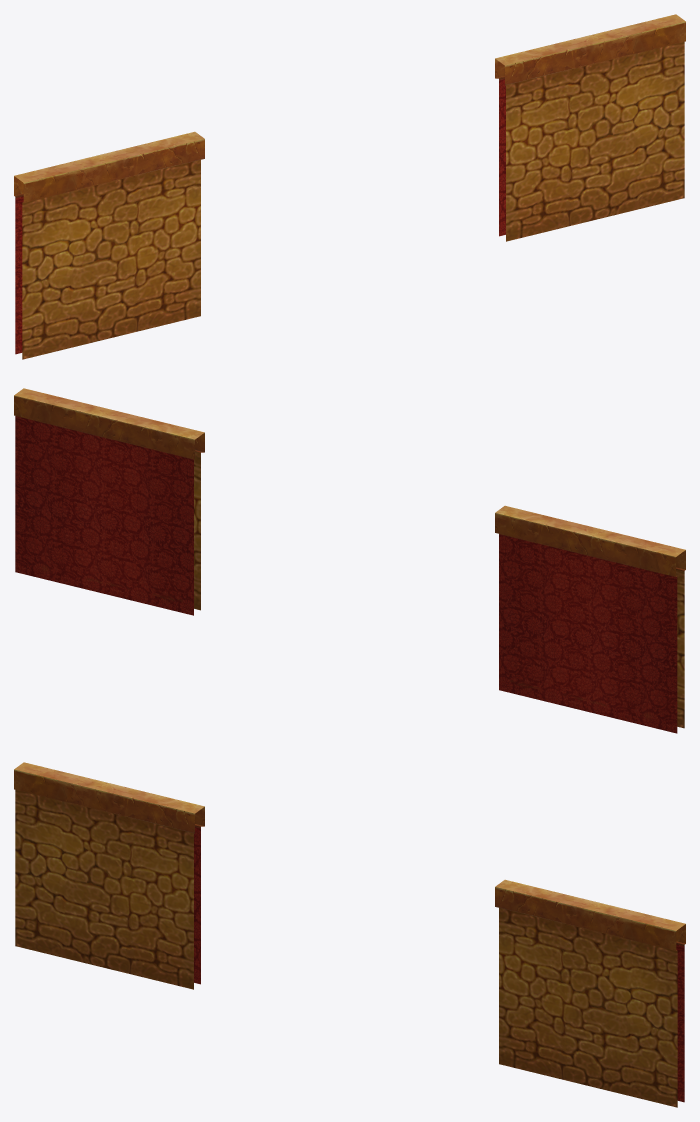
Rendered from Stage_01_02_DaDian01.FBX.
3 views of the same model, one above another, from view 1: azimuth 30°, elevation 25°; view 2: azimuth 150°, elevation 25°; view 3: azimuth 330°, elevation 25° (orthographic).
Parts seen in each view (by area): view 1: Stage_01_02_DaDian01; view 2: Stage_01_02_DaDian01; view 3: Stage_01_02_DaDian01.
Boxes of the visible parts, <box> form: Stage_01_02_DaDian01: <box>14,14,685,359</box>; Stage_01_02_DaDian01: <box>14,388,685,733</box>; Stage_01_02_DaDian01: <box>14,762,685,1107</box>.
Bounding box in the file's own units: 3862 × 990 × 99.3.
